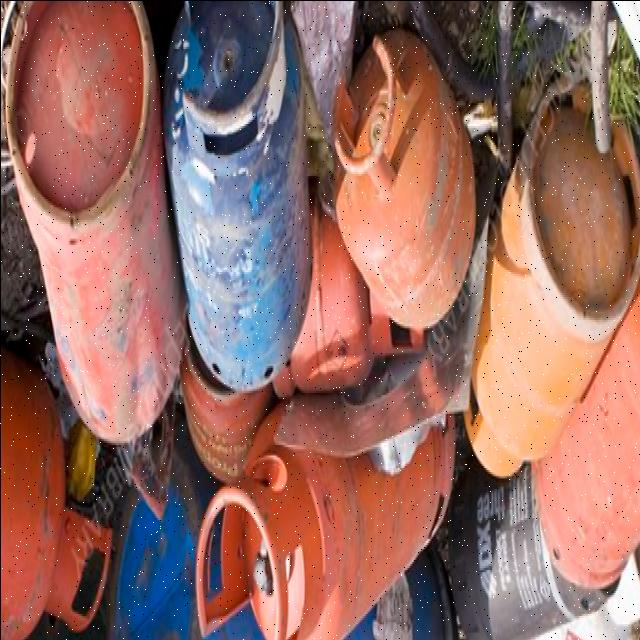cylinder: (4, 2, 186, 520), (462, 76, 639, 478), (194, 396, 454, 638), (161, 2, 310, 392), (332, 29, 474, 328), (1, 347, 112, 640)
